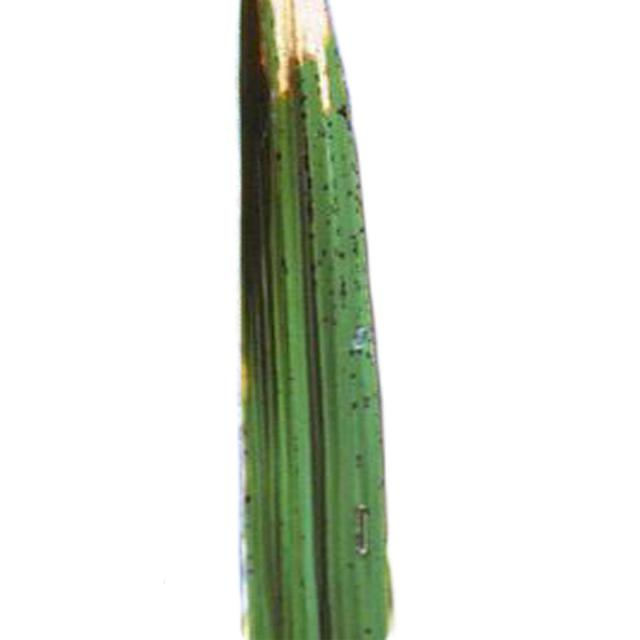Leaf scald: (211, 1, 439, 640)
